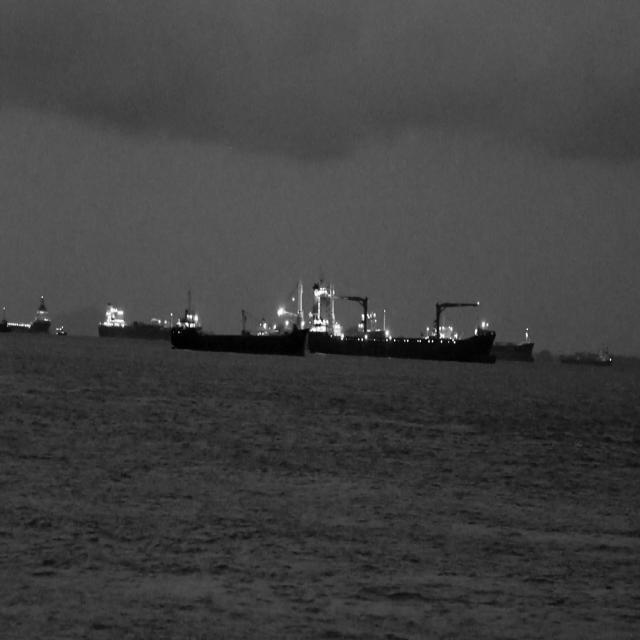ship: (307, 280, 496, 364), (170, 279, 307, 355), (97, 300, 170, 340), (1, 292, 51, 336), (557, 337, 613, 367), (492, 325, 534, 364), (53, 320, 68, 338)
